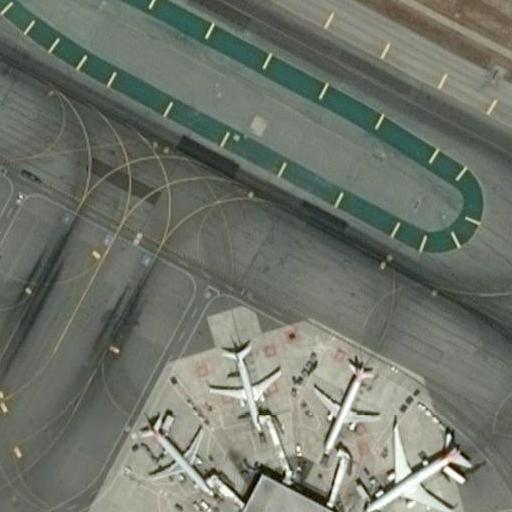Aircraft: (362, 419, 475, 512), (129, 411, 212, 499), (206, 329, 279, 426)
